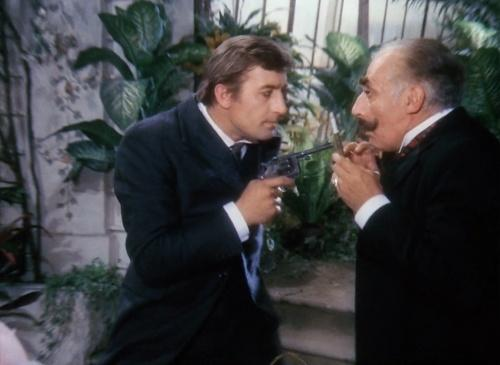Gun: (261, 139, 335, 186)
